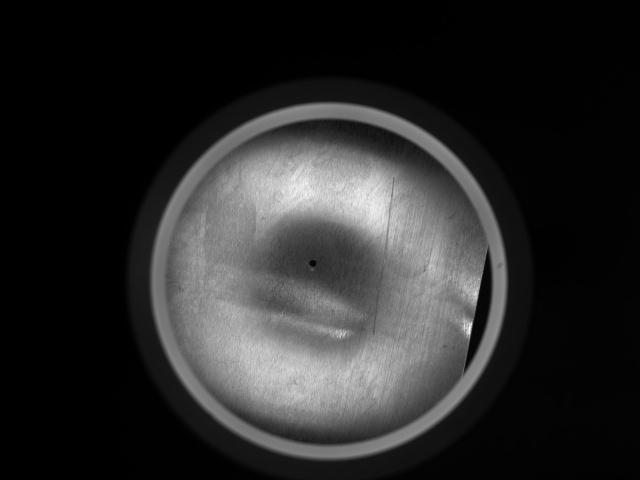ca_shang: (371, 178, 393, 335)
zhen_kong: (306, 258, 322, 275)
